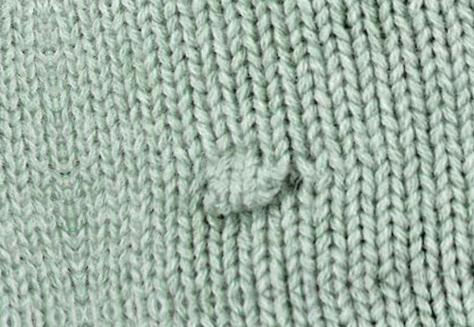knot: (196, 150, 300, 223)
